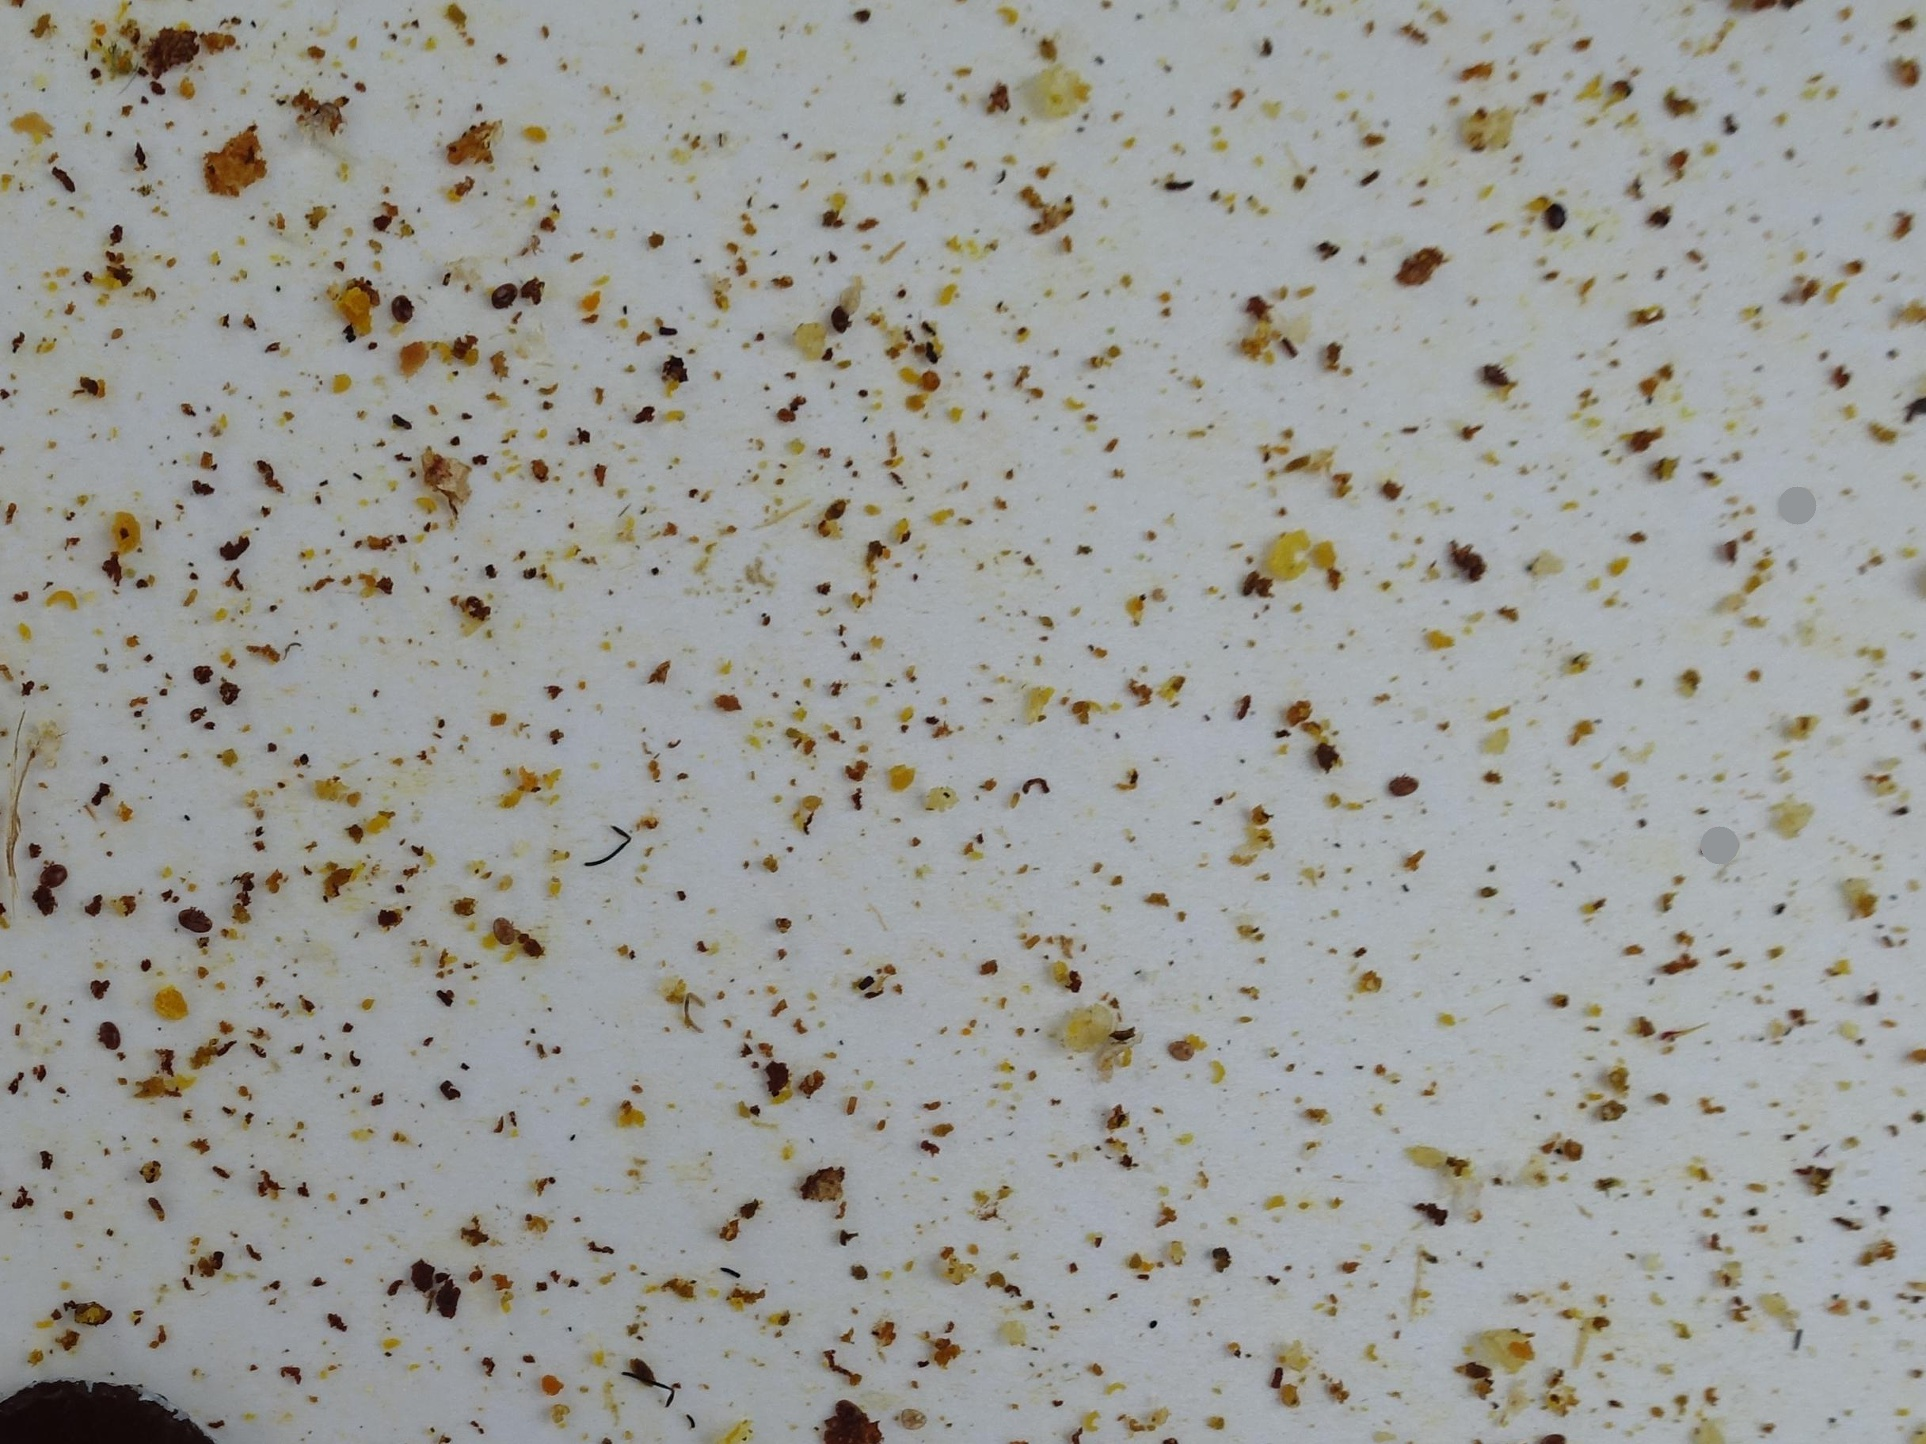Varroa: (384, 285, 428, 332), (1532, 203, 1576, 249), (85, 1015, 129, 1059), (170, 896, 212, 942), (490, 910, 534, 953), (494, 272, 534, 312), (1382, 757, 1419, 799), (820, 296, 858, 338), (29, 851, 68, 890), (1479, 355, 1517, 393), (1163, 1031, 1201, 1069)
